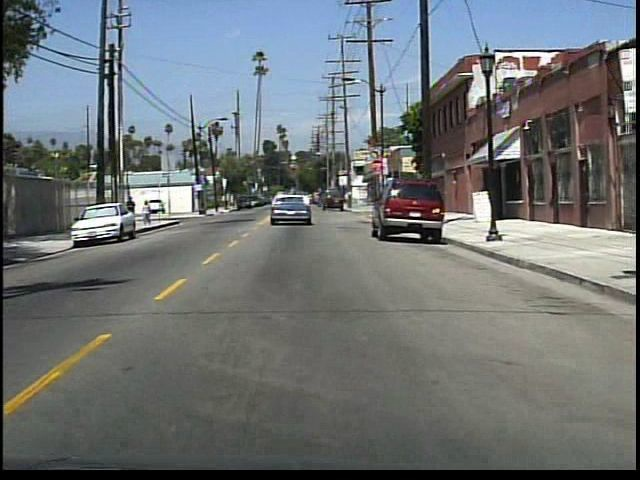person: (124, 195, 141, 228), (140, 199, 154, 228)
